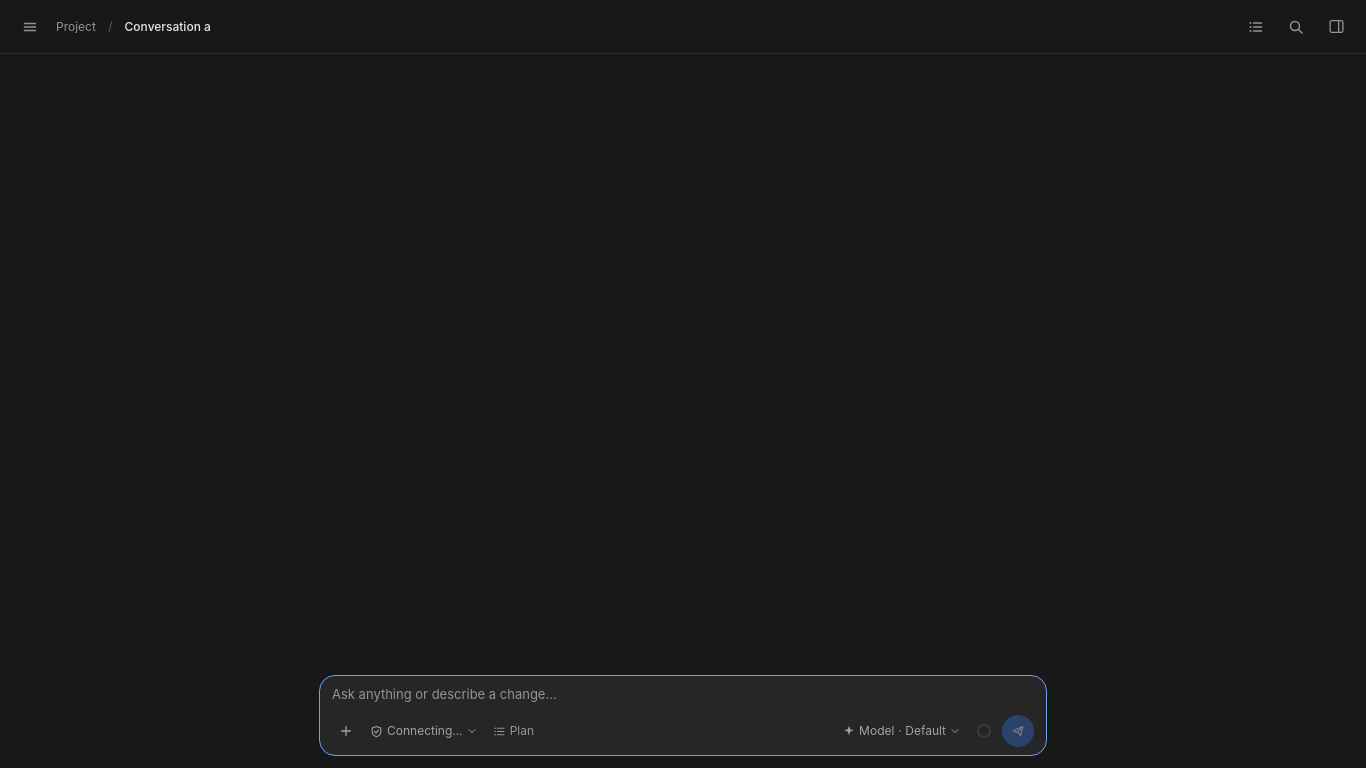
it: opens a real launcher with implemented tools, keyboard selection and no empty suggestions
Click the button named "Open workspace": (1336, 26) [1322,12,1350,40]
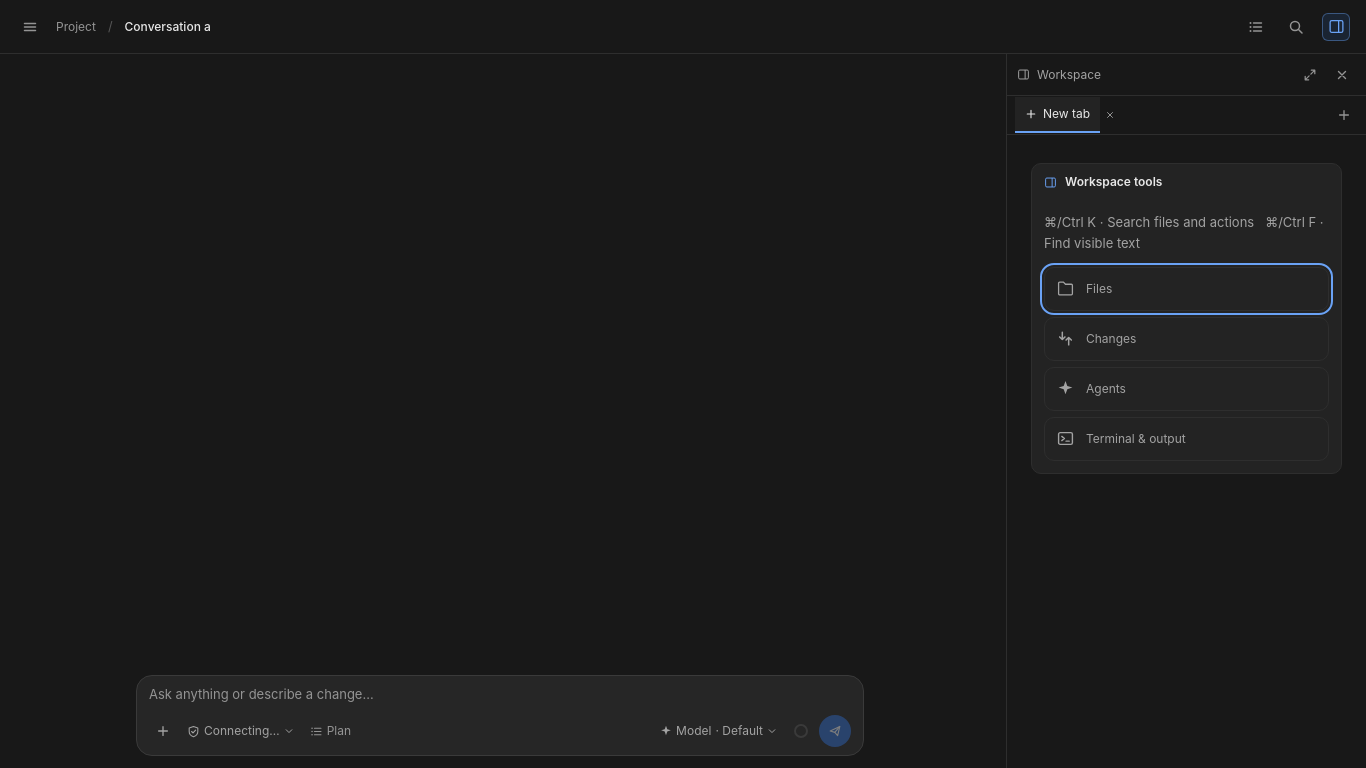
Expected: the button "Terminal & output" is shown, [1044,417,1329,461]
Press ArrowDown in the button "Files", box [1044,267,1329,311]
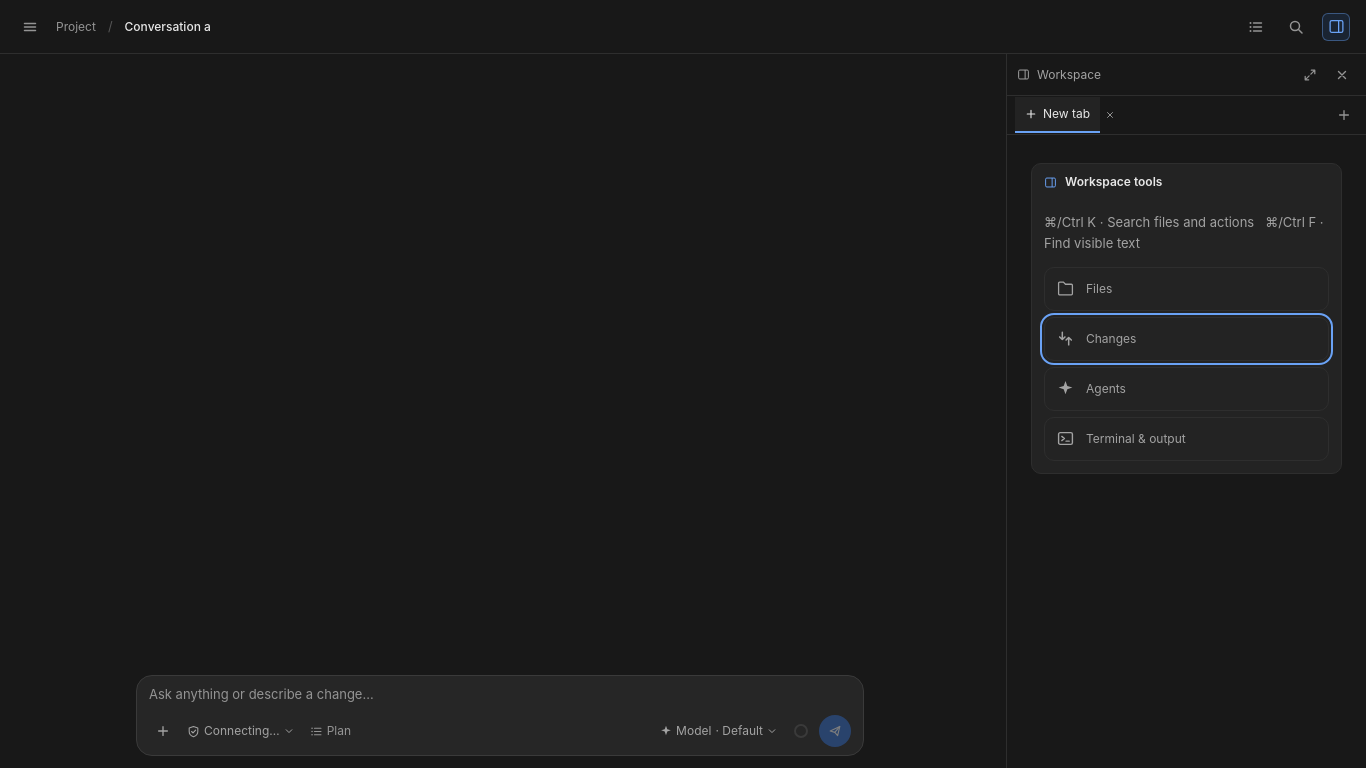
Press ArrowDown in the button "Changes", box [1044,317,1329,361]
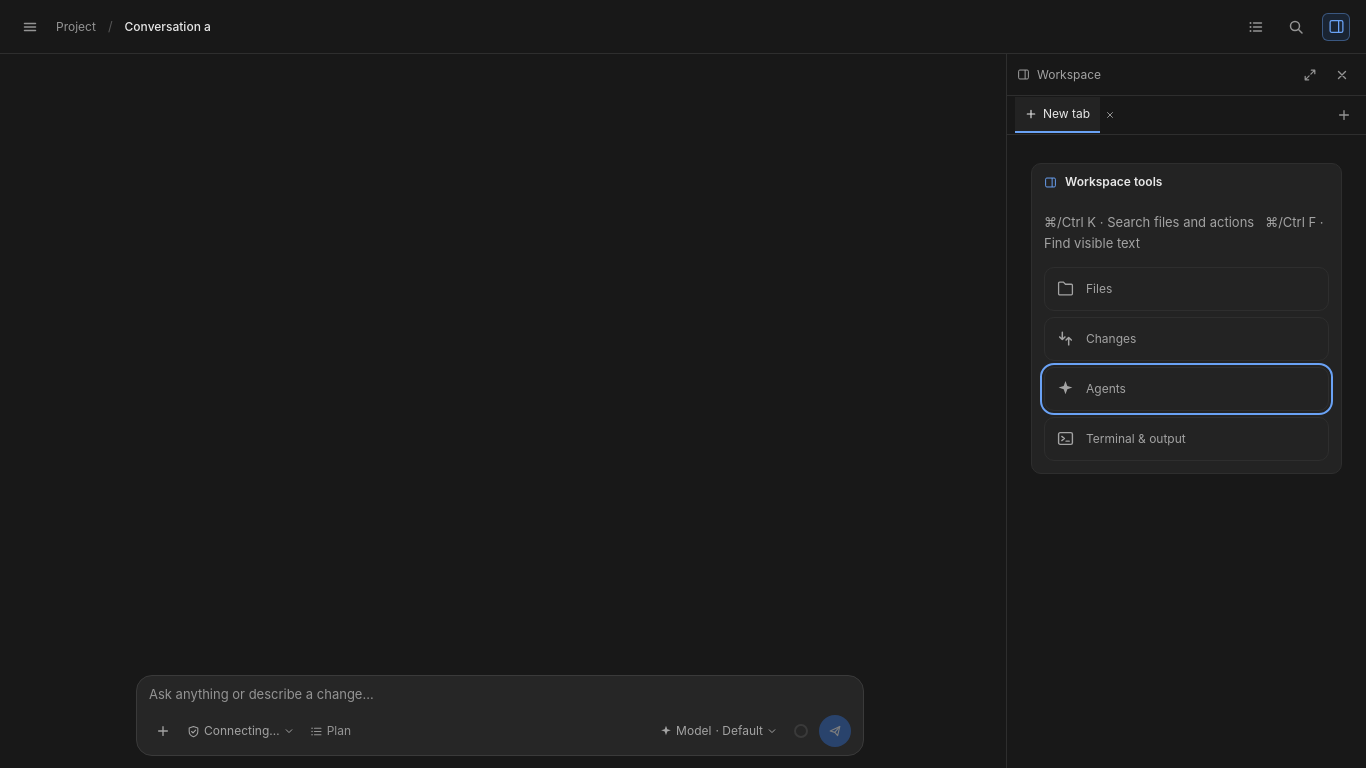
Press Home in the button "Agents", box [1044,367,1329,411]
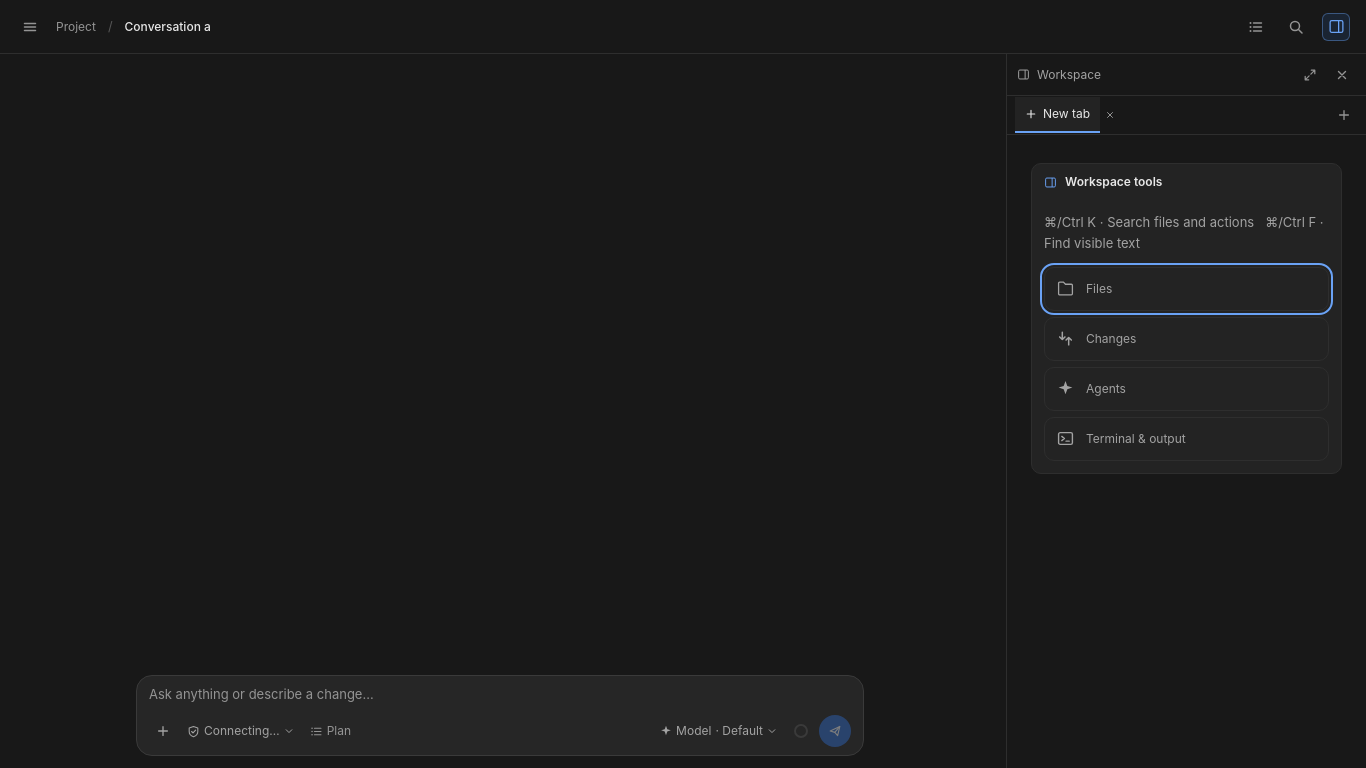
Press Enter
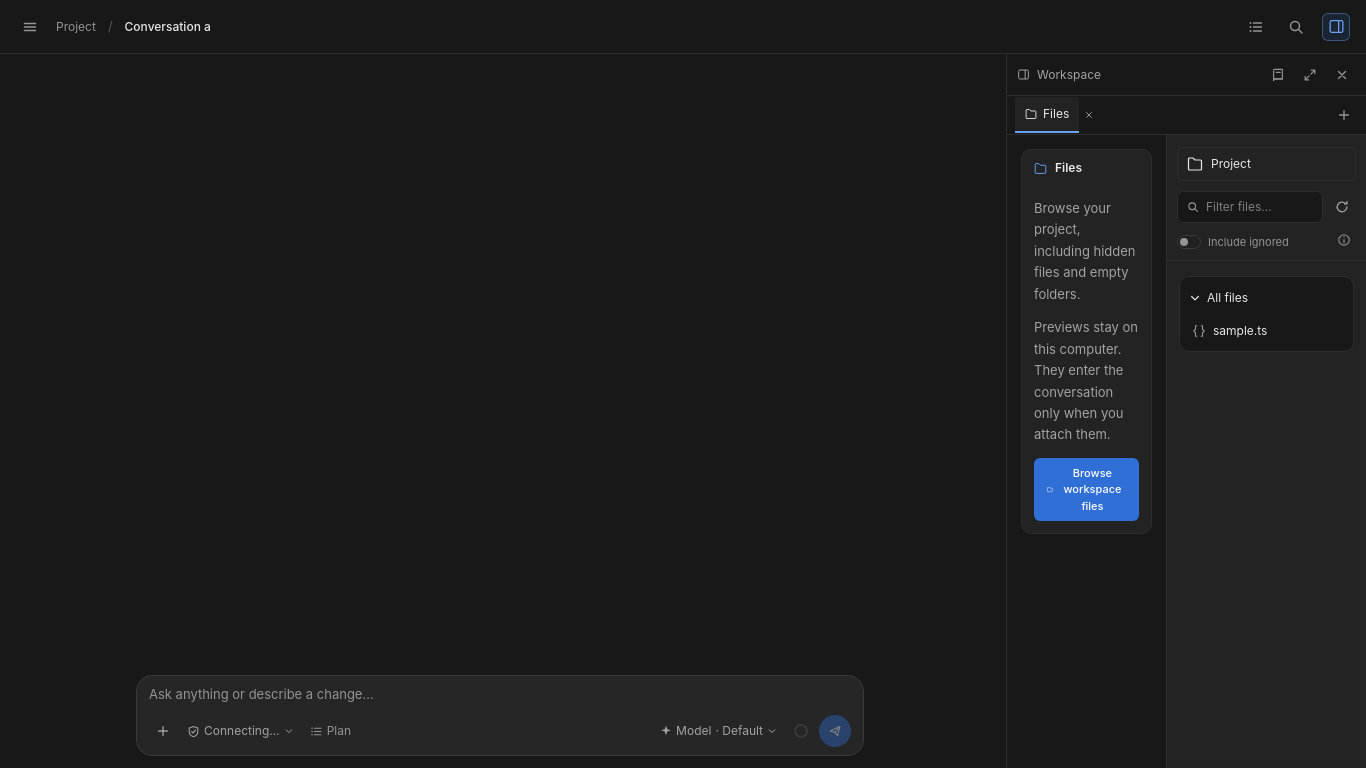
Expected: the button "New tab" is gone
Expected: the element named "Workspace files" is shown, [1166,135,1365,767]
